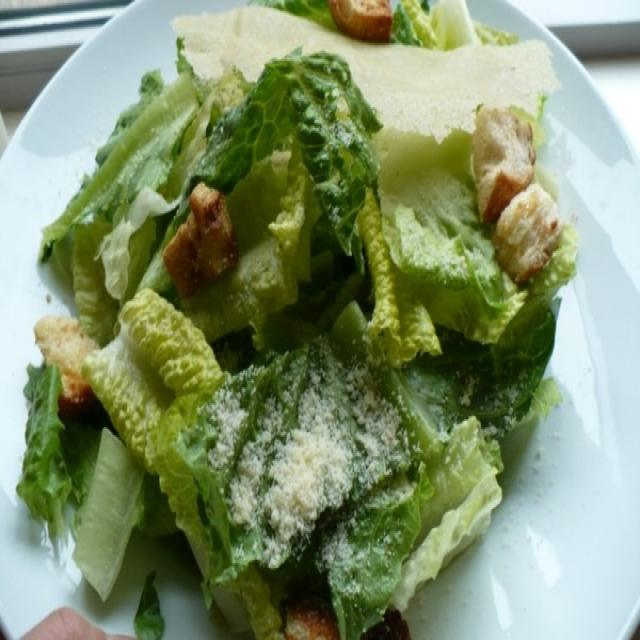蔬菜料理: (9, 13, 616, 629)
